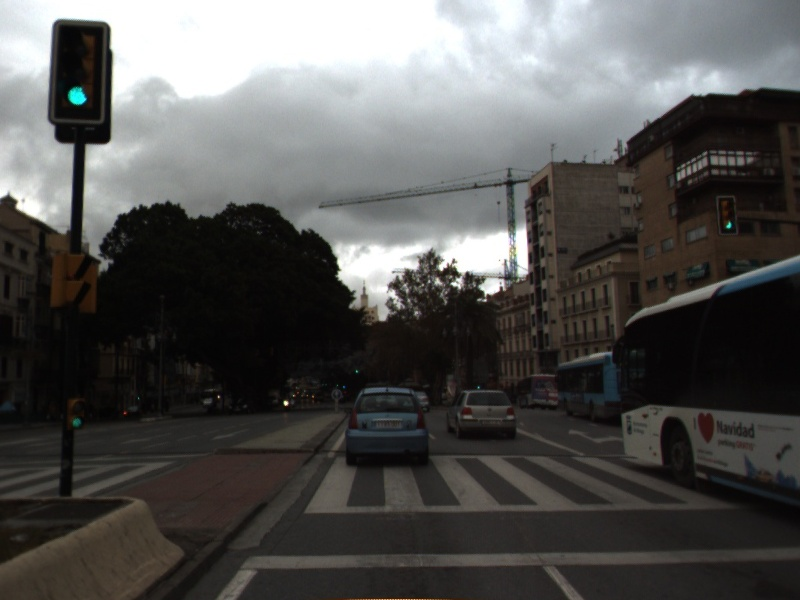STRAIGHT_RIGHT: (567, 427, 624, 447)
